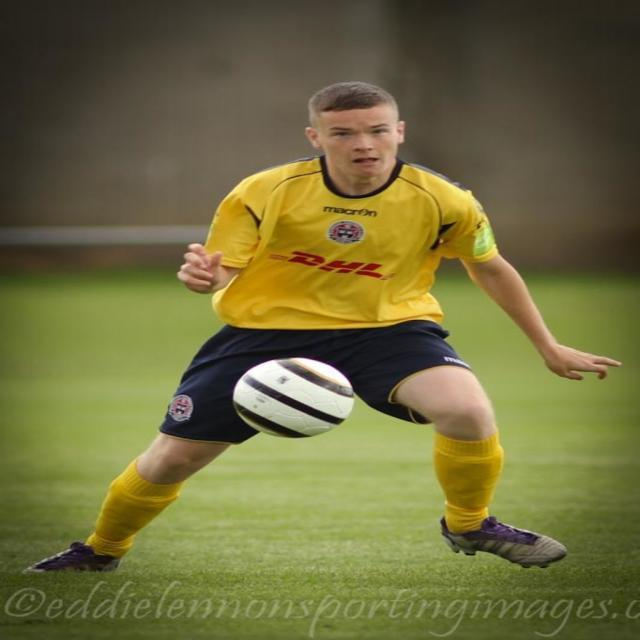football: (227, 356, 364, 454)
